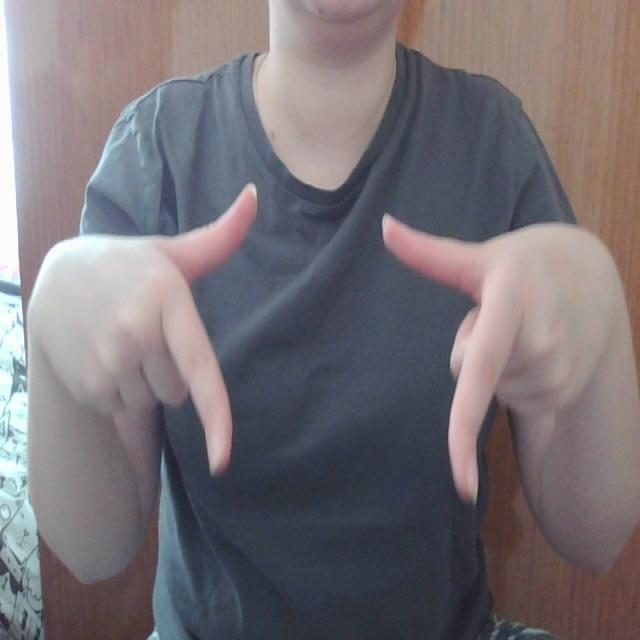Nerede: (148, 177, 526, 523)
